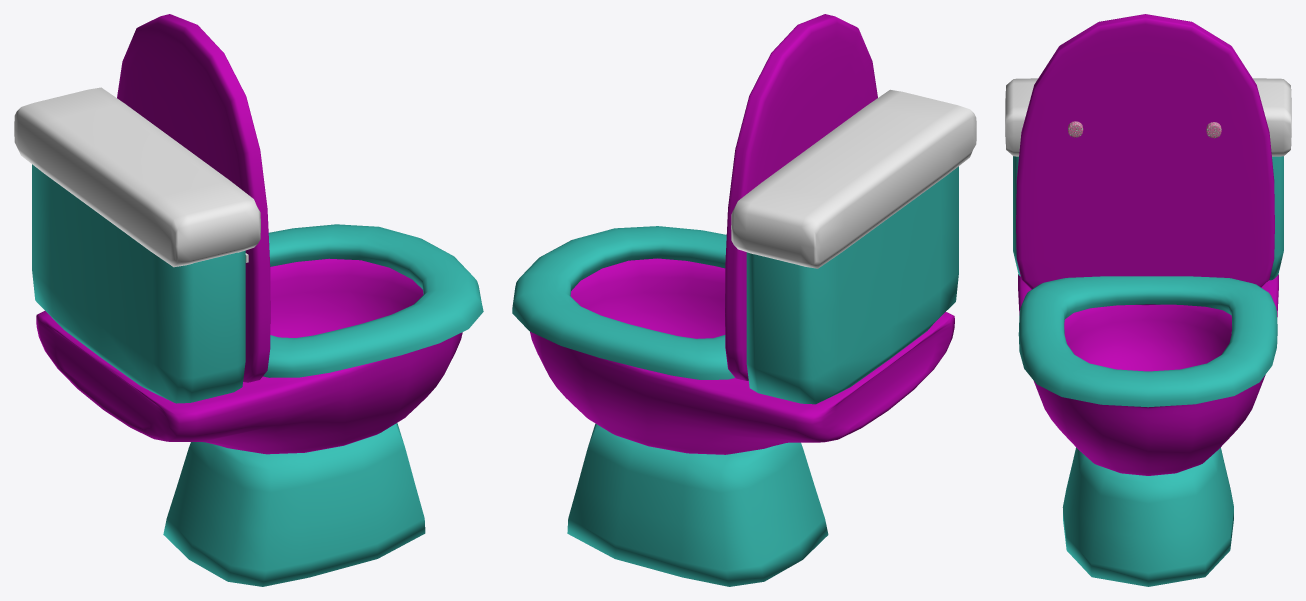
File: toilet-open-3.glb
3 views of the same model, side by side, from view 1: azimuth 30°, elevation 25°; view 2: azimuth 150°, elevation 25°; view 3: azimuth 270°, elevation 25° (orthographic). The views are drawn at different scales.
Parts seen in each view (by area): view 1: Plane.003, Cube.004, Cube.005, Cube.006, Plane.005, Plane.004; view 2: Plane.003, Cube.004, Cube.005, Cube.006, Plane.005, Plane.004; view 3: Plane.005, Plane.003, Plane.004, Cube.004, Cube.006, Cube.005.
Part boxes in pixels (box(x1,y1,x2,y2)): Plane.003: box(36, 258, 462, 454); Cube.004: box(163, 423, 425, 586); Cube.005: box(32, 164, 245, 403); Cube.006: box(14, 87, 260, 267); Plane.005: box(117, 14, 270, 382); Plane.004: box(263, 224, 483, 377); Plane.003: box(530, 258, 954, 454); Cube.004: box(567, 423, 828, 586); Cube.005: box(746, 166, 958, 404); Cube.006: box(731, 89, 976, 268); Plane.005: box(725, 14, 877, 380); Plane.004: box(512, 226, 734, 379); Plane.005: box(1016, 14, 1274, 305); Plane.003: box(1018, 274, 1278, 475); Plane.004: box(1018, 276, 1277, 407); Cube.004: box(1062, 447, 1233, 586); Cube.006: box(1005, 78, 1291, 156); Cube.005: box(1013, 156, 1283, 280).
Size of the model in its own units: 4.09 by 5.79 by 3.16.
4 materials, 1 textured.
